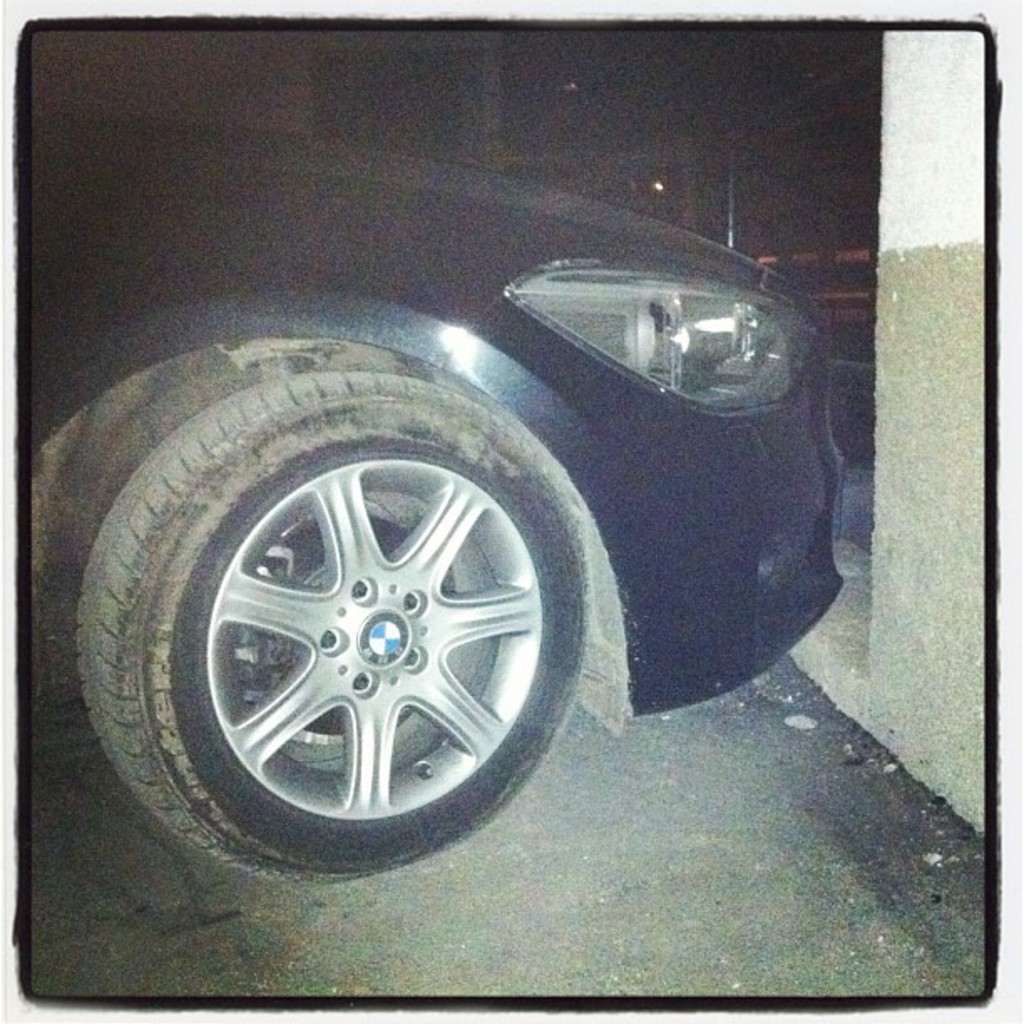cars: (0, 84, 798, 934)
